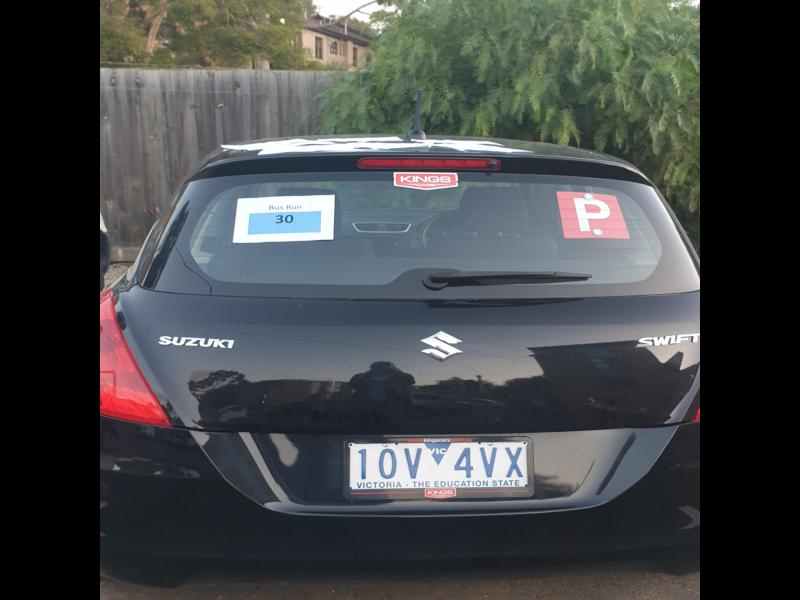BusRun: (247, 211, 322, 234)
PlateNo: (348, 439, 532, 482)
